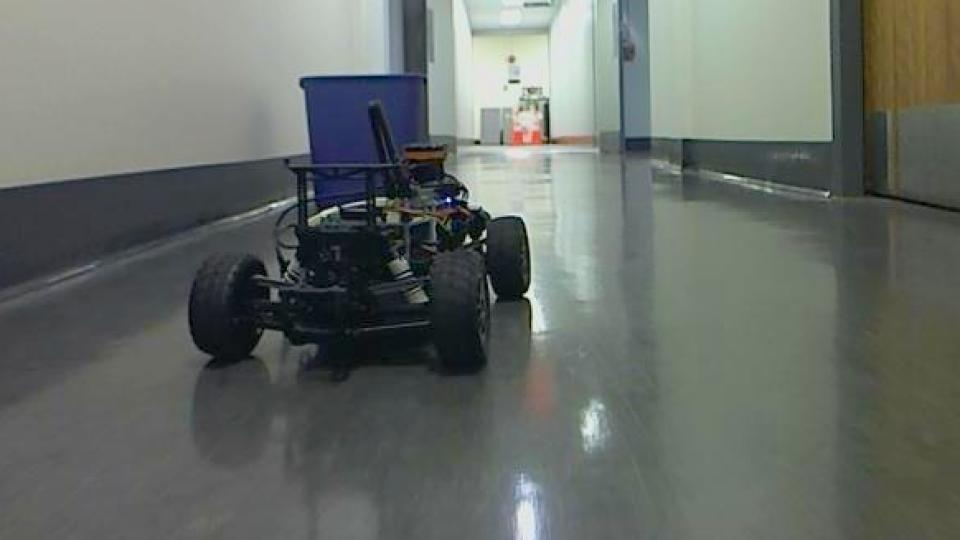car: (183, 75, 535, 381)
